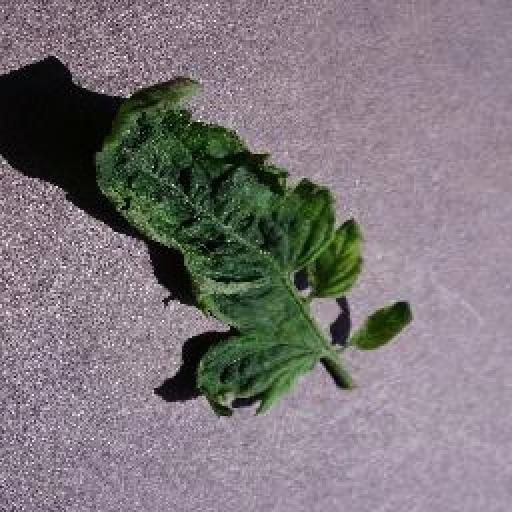Mosaic Virus: (88, 71, 414, 417)
